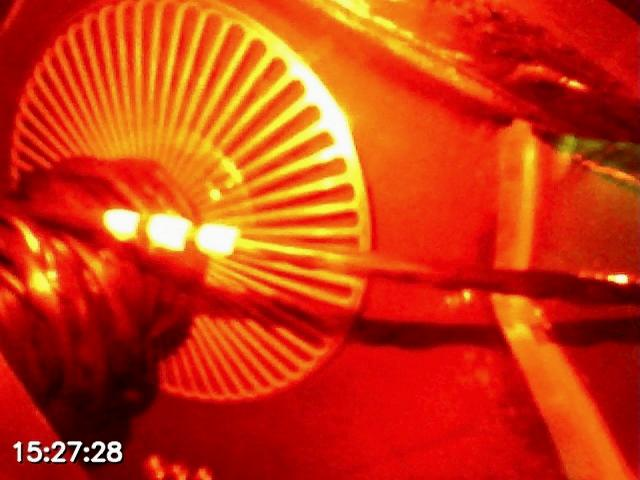white-dots: (102, 209, 240, 258)
